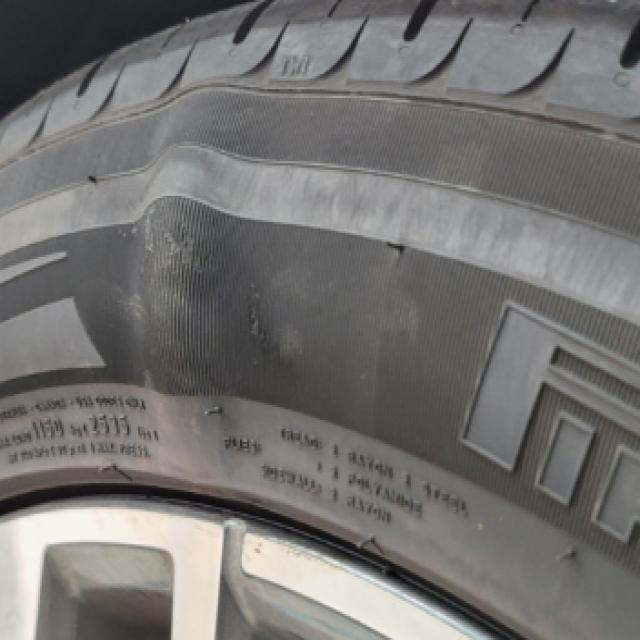Bulge: (110, 57, 289, 467)
